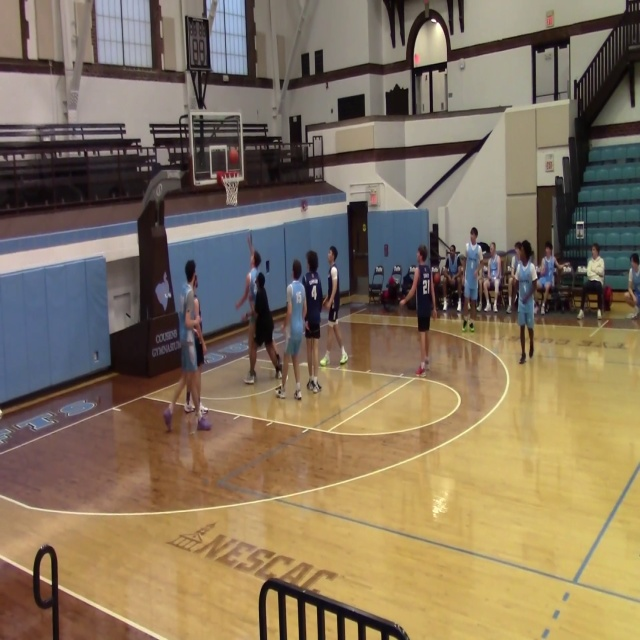Basketball: (229, 148, 238, 163), (217, 171, 224, 186), (433, 273, 440, 283), (319, 358, 326, 366)
